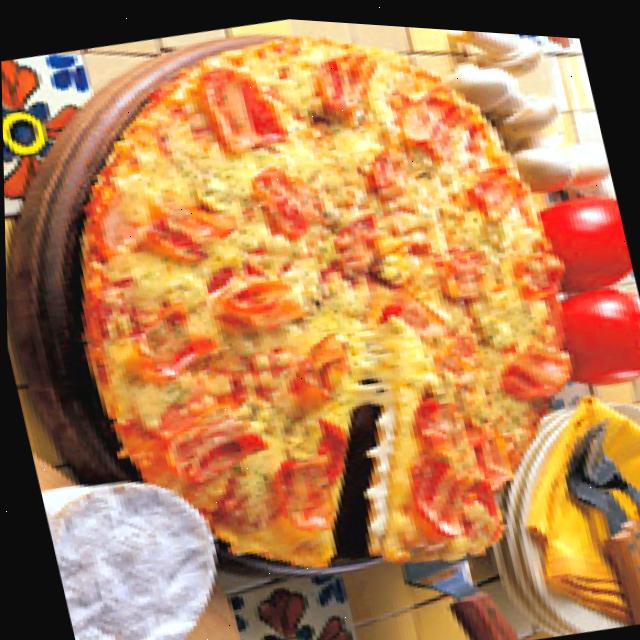汉堡快餐: (27, 1, 636, 628)
